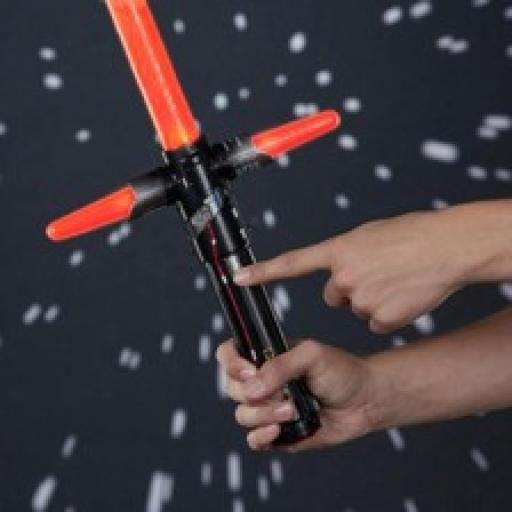sith saber: (43, 0, 350, 449)
